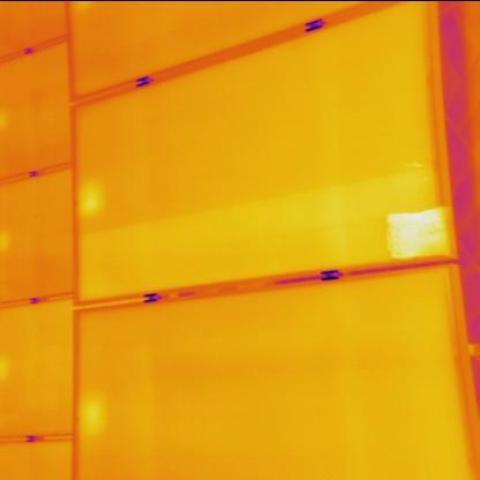fault: (384, 213, 453, 252)
